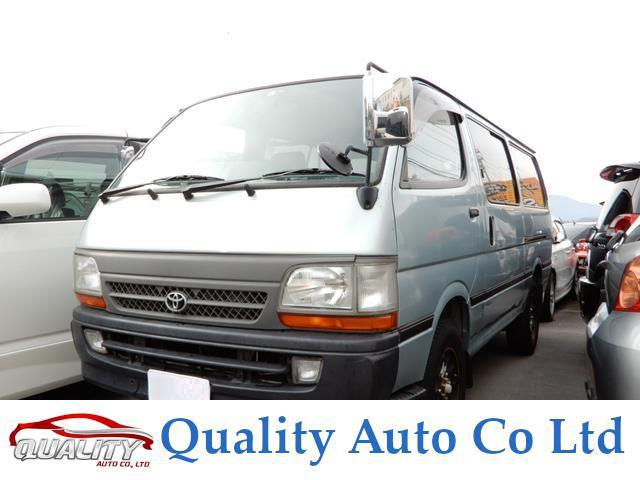Van: (78, 68, 562, 408)
